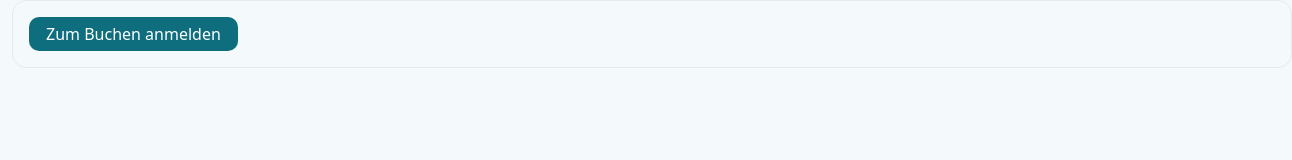
Test: BookingBox › links to the login when nobody is logged in
Click the link "Zum Buchen anmelden" at (133, 34), box top-left (29, 17), bottom-right (238, 51)
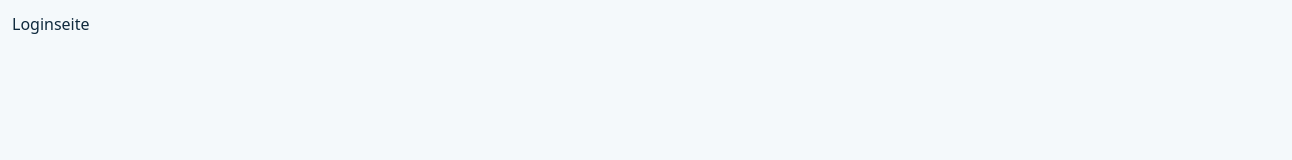
Check: the text "Loginseite" is shown, box top-left (12, 13), bottom-right (90, 35)
